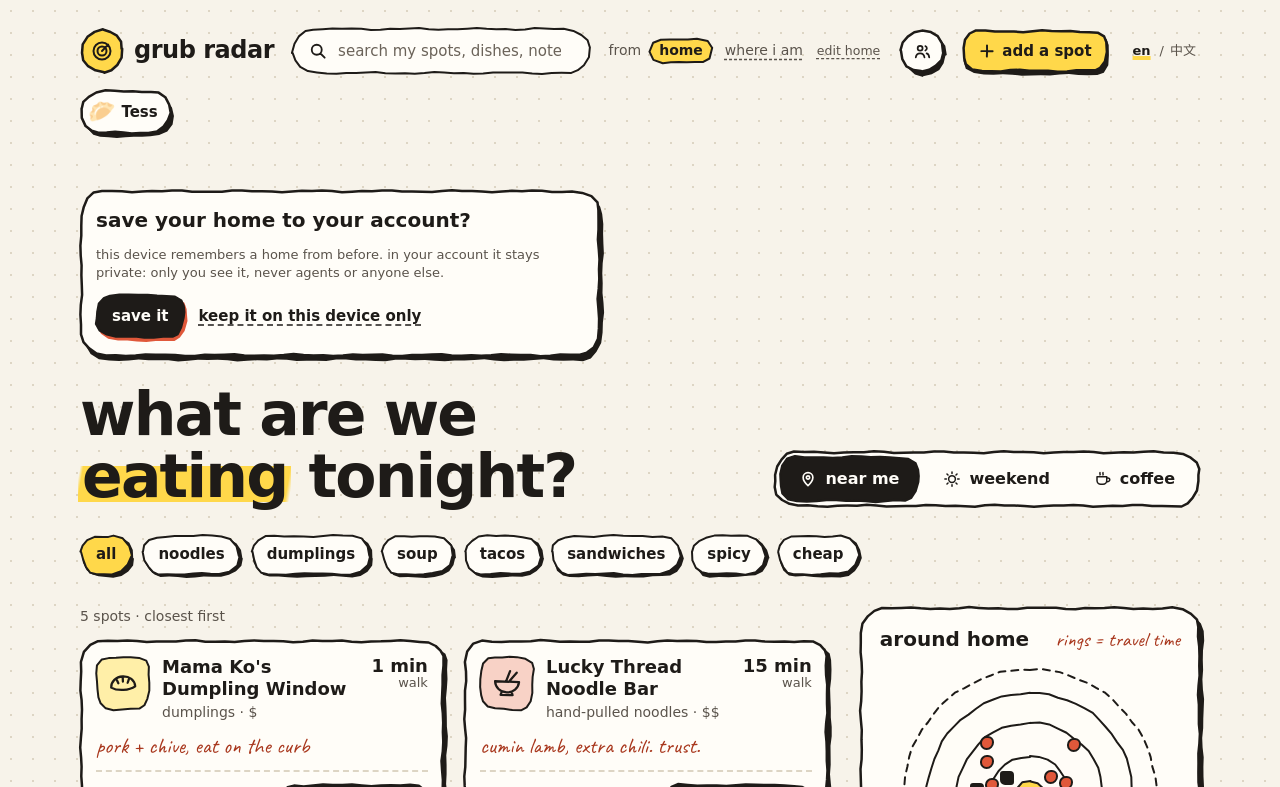
Scenario: home: races and failures › asks once before moving an old device home (v0) to the account
Expected: the element that starts with "Mama Ko's Dumpling Window" is shown, [162,656,346,699]
Click the button "save it".
click(140, 316)  # box [96,294,184,338]
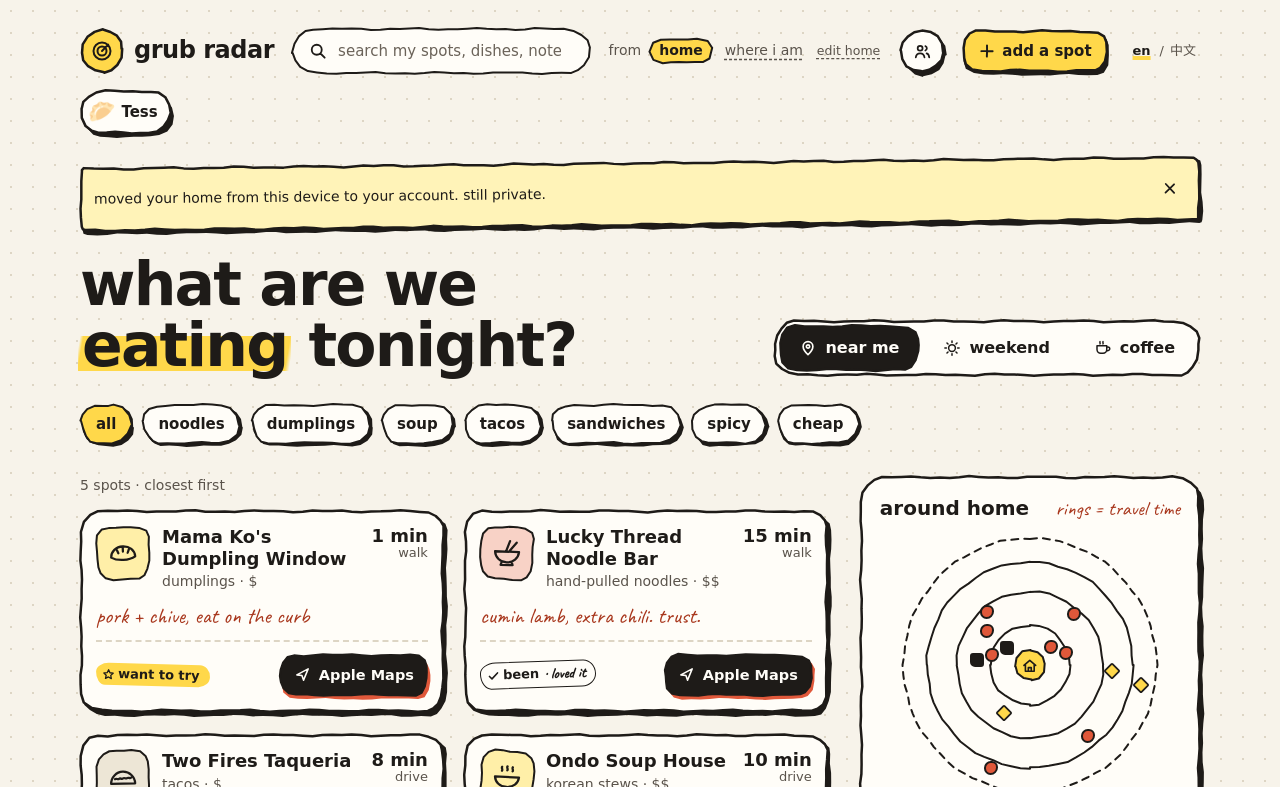
Now the message shows "moved your home", box [94,186,546,207]
Now the heading "save your home to your account?" is gone
